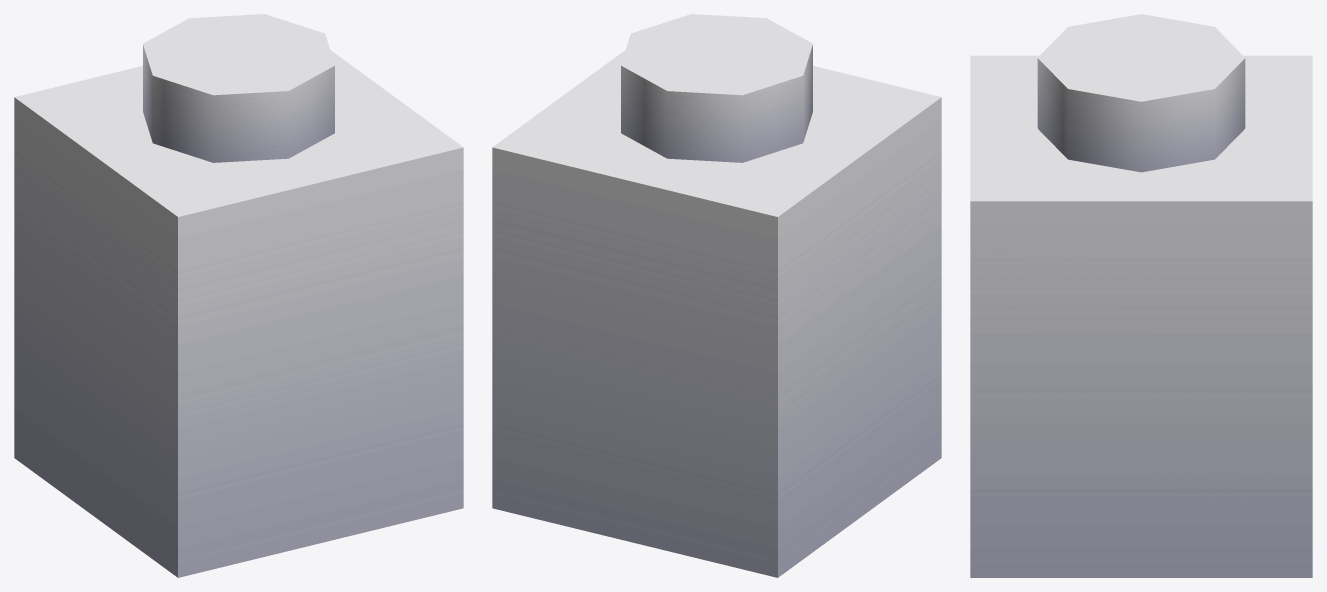
File: round-lq-brick-1x1.glb
3 views of the same model, side by side, from view 1: azimuth 30°, elevation 25°; view 2: azimuth 150°, elevation 25°; view 3: azimuth 270°, elevation 25° (orthographic). The views are drawn at different scales.
Visible parts, largest first — view 1: round-lq-brick-1x1; view 2: round-lq-brick-1x1; view 3: round-lq-brick-1x1.
Boxes of the visible parts, <box> form: round-lq-brick-1x1: <box>14,14,463,577</box>; round-lq-brick-1x1: <box>492,14,941,577</box>; round-lq-brick-1x1: <box>970,14,1312,577</box>.
Bounding box in the file's own units: 0.0795 × 0.114 × 0.079.
Materials: 1 (1 with a texture image).
